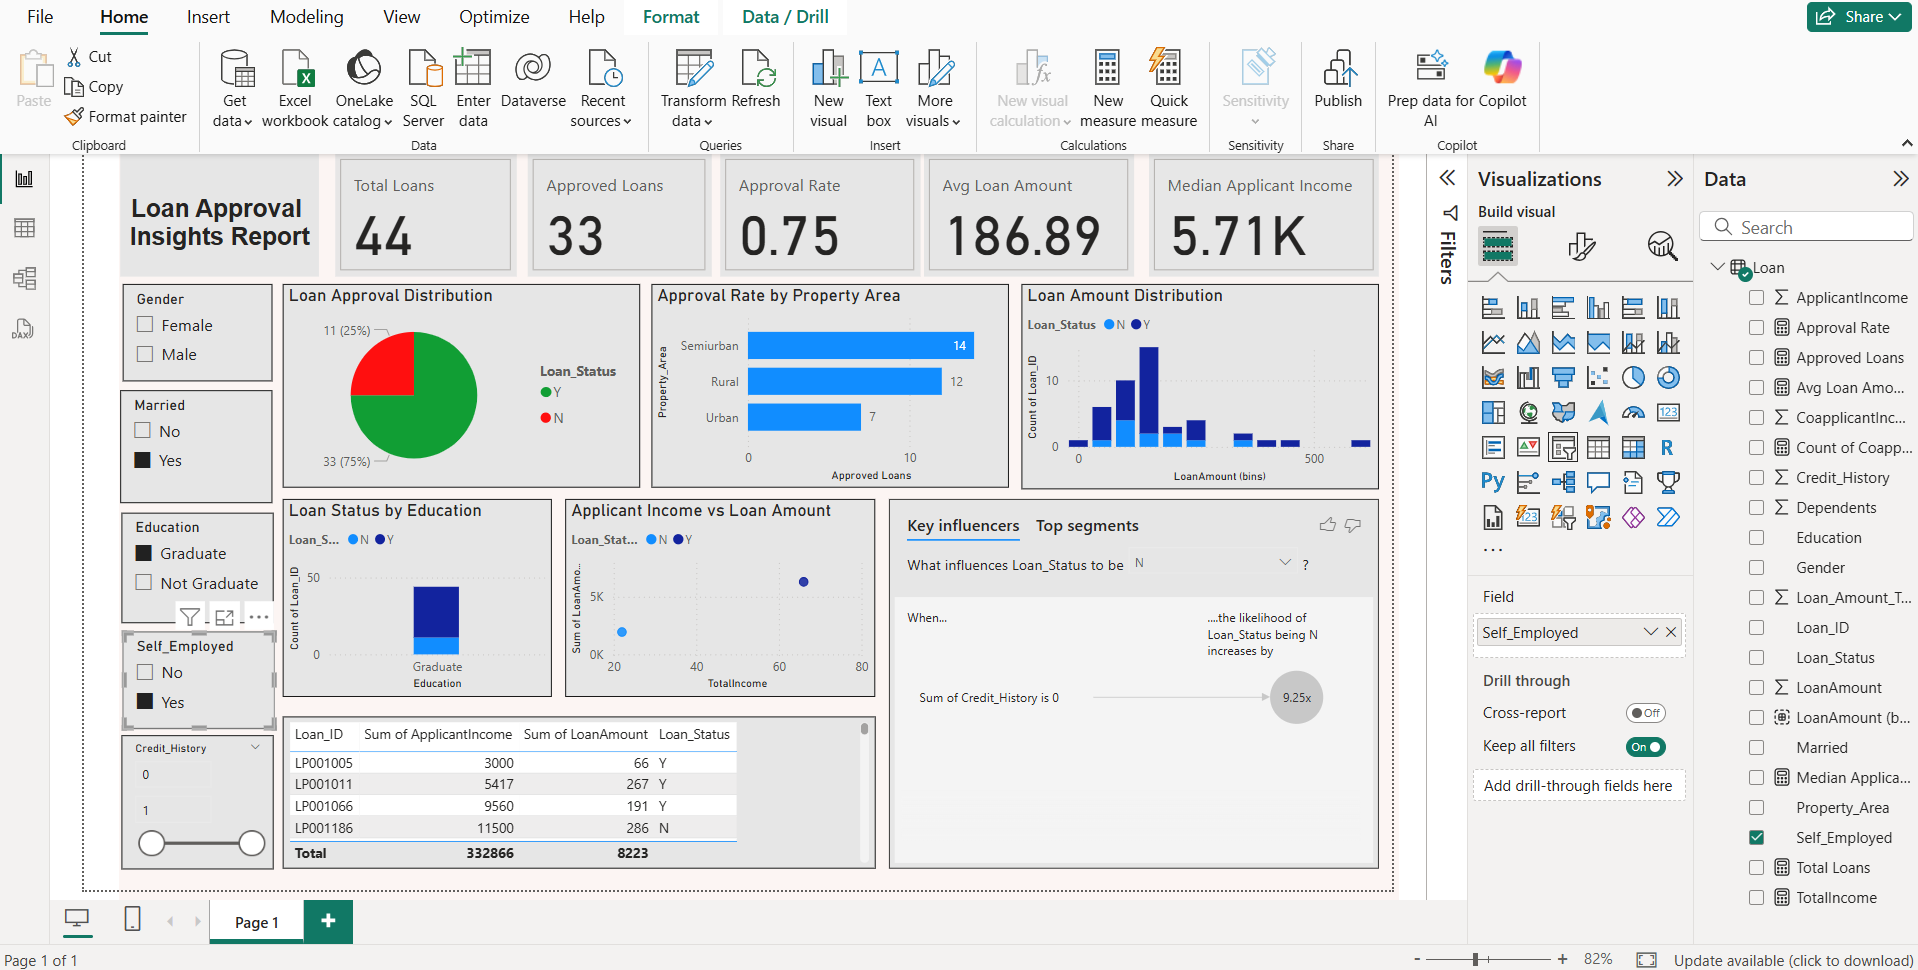

What the dashboard file says about the page in this screenshot:
{"tool":"powerbi","page":{"name":"Page 1","canvas":[1280,720],"ordinal":0},"visuals":[{"type":"cardVisual","fields":{"Data":["Loan.Total Loans"]},"box":[245.8,0,177.3,119.8],"z":0},{"type":"cardVisual","fields":{"Data":["Loan.Approved Loans"]},"box":[434.1,0,179.8,119.8],"z":1000},{"type":"cardVisual","fields":{"Data":["Loan.Approval Rate"]},"box":[622.4,0,195.7,119.8],"z":2000},{"type":"cardVisual","fields":{"Data":["Loan.Avg Loan Amount"]},"box":[821.7,0,205.4,119.8],"z":3000},{"type":"cardVisual","fields":{"Data":["Loan.Median Applicant Income"]},"box":[1041.9,0,225,119.8],"z":4000},{"type":"slicer","fields":{"Values":["Loan.Gender"]},"box":[37.9,127.2,146.7,95.4],"z":5000},{"type":"slicer","fields":{"Values":["Loan.Married"]},"box":[35.5,231.1,149.2,110.1],"z":6000},{"type":"slicer","fields":{"Values":["Loan.Education"]},"box":[36.7,351,149.2,107.6],"z":7000},{"type":"slicer","fields":{"Values":["Loan.Self_Employed"]},"box":[37.9,467.1,149.2,95.4],"z":8000},{"type":"slicer","fields":{"Values":["Loan.Credit_History"]},"box":[36.7,568.6,149.2,130.8],"z":9000},{"type":"pieChart","title":"Loan Approval Distribution","fields":{"Category":["Loan.Loan_Status"],"Y":["CountNonNull(Loan.Loan_ID)"]},"box":[194.4,127.2,349.7,199.3],"z":10000},{"type":"clusteredBarChart","title":"Approval Rate by Property Area","fields":{"Category":["Loan.Property_Area"],"Y":["Loan.Approved Loans"]},"box":[555.2,127.2,349.7,199.3],"z":11000},{"type":"columnChart","title":"Loan Status by Education","fields":{"Category":["Loan.Education"],"Series":["Loan.Loan_Status"],"Y":["CountNonNull(Loan.Loan_ID)"]},"box":[194.4,337.5,262.9,193.2],"z":11001},{"type":"scatterChart","title":"Applicant Income vs Loan Amount","fields":{"X":["Loan.TotalIncome"],"Y":["Sum(Loan.LoanAmount)"],"Series":["Loan.Loan_Status"]},"box":[470.8,337.5,303.3,193.2],"z":11002},{"type":"columnChart","title":"Loan Amount Distribution","fields":{"Category":["Loan.LoanAmount (bins)"],"Y":["CountNonNull(Loan.Loan_ID)"],"Series":["Loan.Loan_Status"]},"box":[917.1,127.2,349.7,200.5],"z":11003},{"type":"keyDriversVisual","fields":{"Target":["Loan.Loan_Status"],"ExplainBy":["Sum(Loan.Credit_History)","Loan.TotalIncome","Loan.Education","Loan.Property_Area","Loan.Gender"]},"box":[787.5,337.5,479.4,362],"z":11004},{"type":"tableEx","fields":{"Values":["Loan.Loan_ID","Sum(Loan.ApplicantIncome)","Sum(Loan.LoanAmount)","Loan.Loan_Status"]},"box":[194.4,550.3,579.6,149.2],"z":11005},{"type":"textbox","box":[35.5,0,194.4,119.8],"z":11006}]}

Visuals, with their boxes on the page's 1280x720 design canvas (x1, y1, x2, y2). These are canvas units, not pixel positions in the 1918x970 screenshot, which may show the page scaled, cropped or inside an application window:
cardVisual - Loan.Total Loans: bbox=(246, 0, 423, 120)
cardVisual - Loan.Approved Loans: bbox=(434, 0, 614, 120)
cardVisual - Loan.Approval Rate: bbox=(622, 0, 818, 120)
cardVisual - Loan.Avg Loan Amount: bbox=(822, 0, 1027, 120)
cardVisual - Loan.Median Applicant Income: bbox=(1042, 0, 1267, 120)
slicer - Loan.Gender: bbox=(38, 127, 185, 223)
slicer - Loan.Married: bbox=(36, 231, 185, 341)
slicer - Loan.Education: bbox=(37, 351, 186, 459)
slicer - Loan.Self_Employed: bbox=(38, 467, 187, 562)
slicer - Loan.Credit_History: bbox=(37, 569, 186, 699)
"Loan Approval Distribution" pieChart: bbox=(194, 127, 544, 326)
"Approval Rate by Property Area" clusteredBarChart: bbox=(555, 127, 905, 326)
"Loan Status by Education" columnChart: bbox=(194, 338, 457, 531)
"Applicant Income vs Loan Amount" scatterChart: bbox=(471, 338, 774, 531)
"Loan Amount Distribution" columnChart: bbox=(917, 127, 1267, 328)
keyDriversVisual - Loan.Loan_Status x Sum(Loan.Credit_History): bbox=(788, 338, 1267, 700)
tableEx - Loan.Loan_ID x Sum(Loan.ApplicantIncome): bbox=(194, 550, 774, 700)
textbox: bbox=(36, 0, 230, 120)
